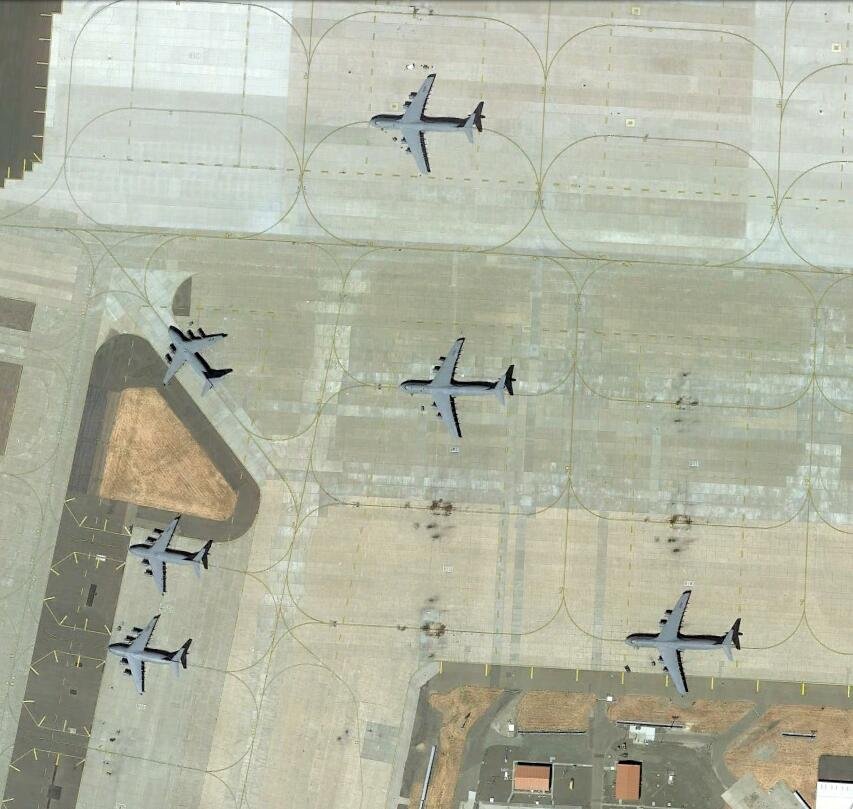A3: (105, 612, 191, 697), (132, 516, 212, 598), (160, 326, 230, 392)
A4: (399, 338, 512, 443), (627, 589, 735, 697), (370, 73, 480, 178)
